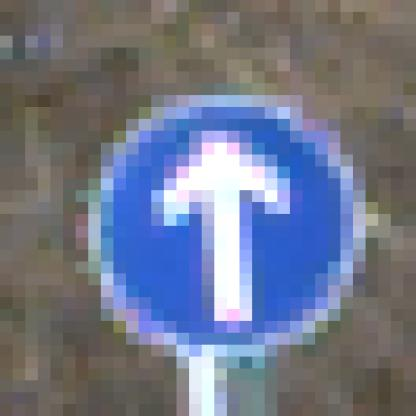AheadOnly: (77, 72, 354, 346)
